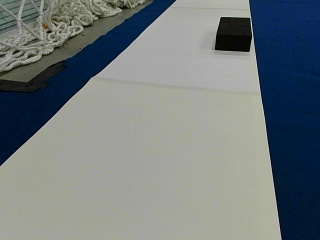block: (215, 16, 251, 51)
